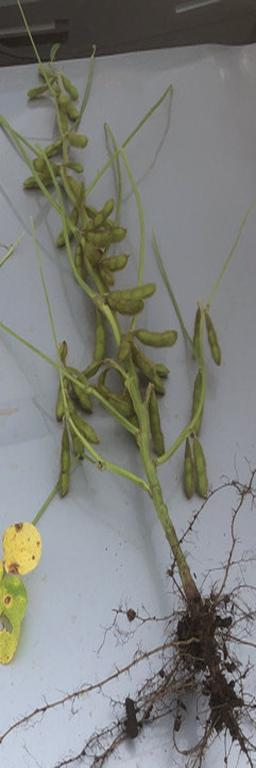pod: (145, 392, 165, 456), (194, 437, 212, 501), (133, 324, 177, 350), (87, 200, 125, 230), (67, 411, 100, 443), (56, 429, 71, 499), (181, 438, 196, 500), (204, 317, 222, 367), (107, 295, 143, 314), (93, 317, 106, 367), (101, 256, 132, 271), (63, 77, 80, 102), (25, 82, 48, 100), (66, 132, 88, 149)
soy: (5, 46, 252, 762)
